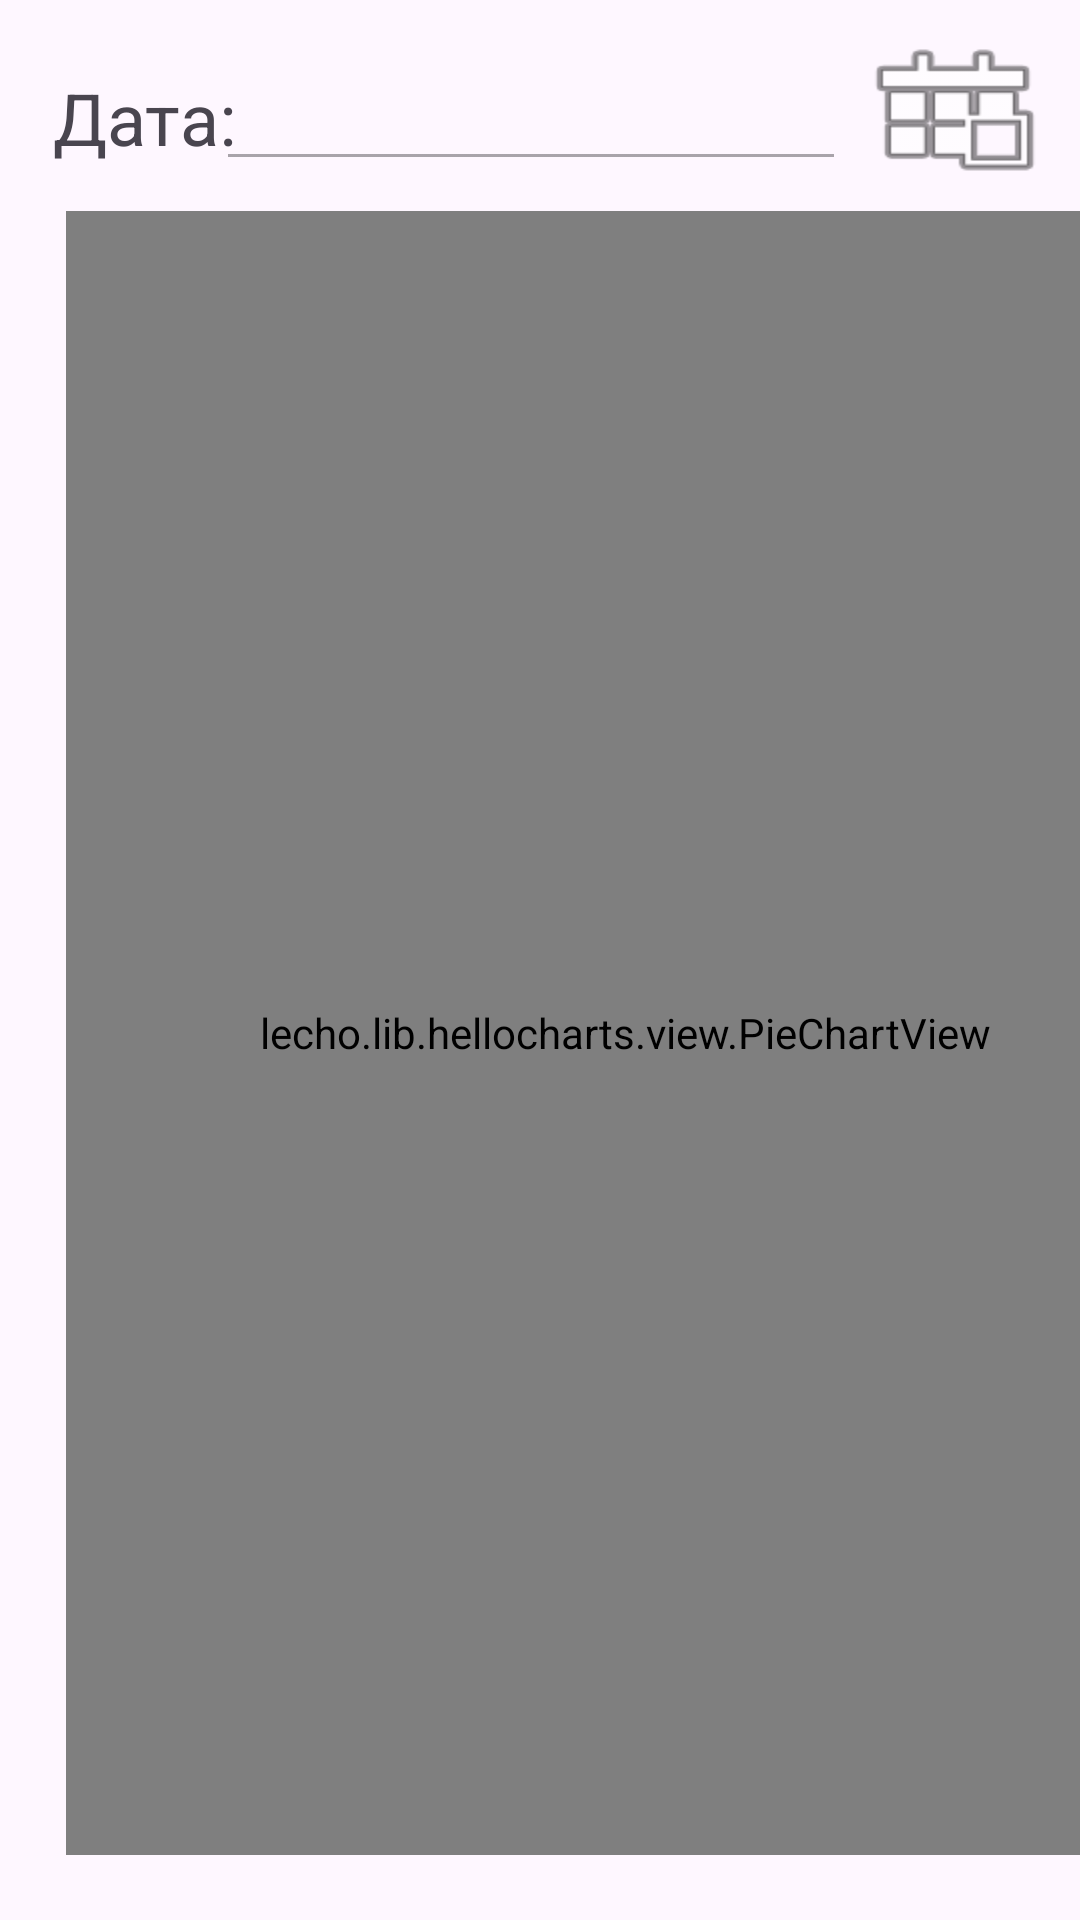

Icons on this 1080px×1920px Android screen, each with its box as (left=x1, top=y1, right=x2, bottom=y2):
today: (left=876, top=49, right=1034, bottom=171)
